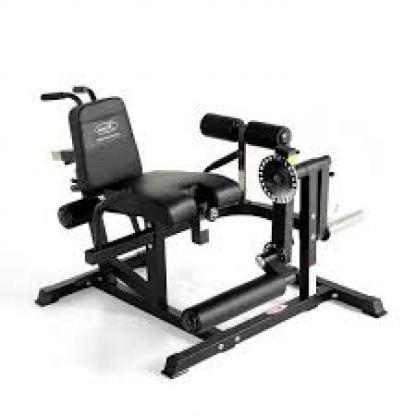leg extension: (23, 68, 395, 388)
